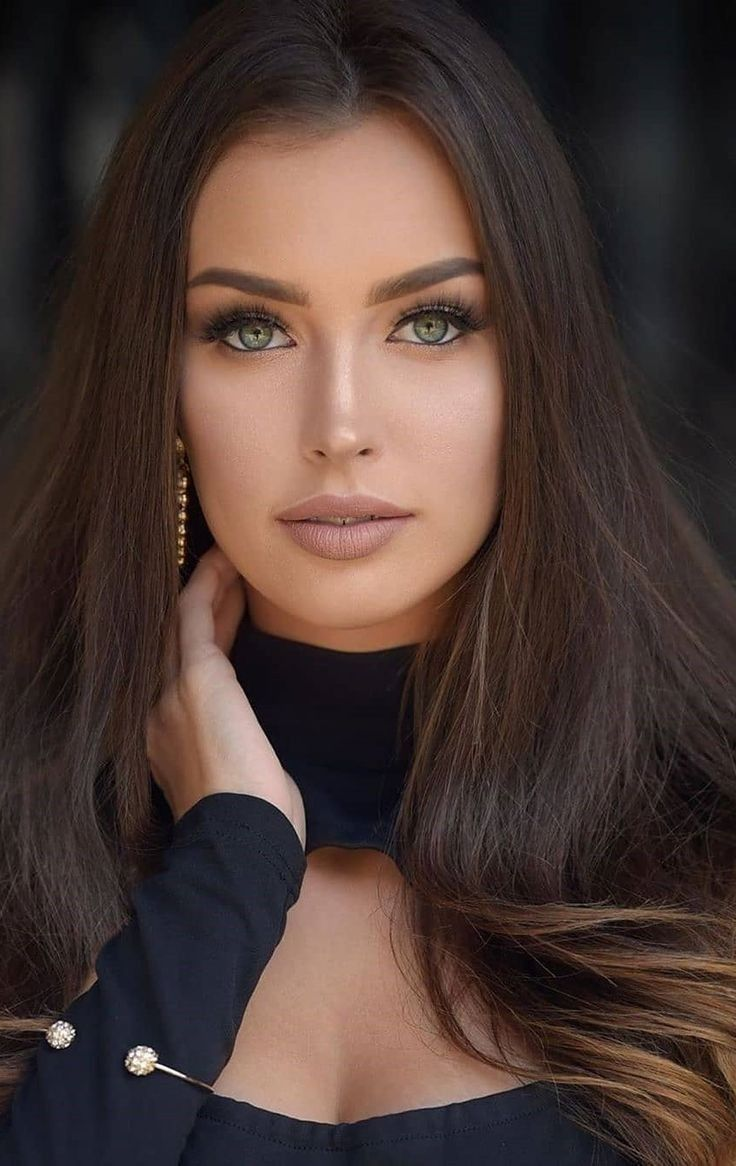no_mask: (45, 33, 615, 635)
